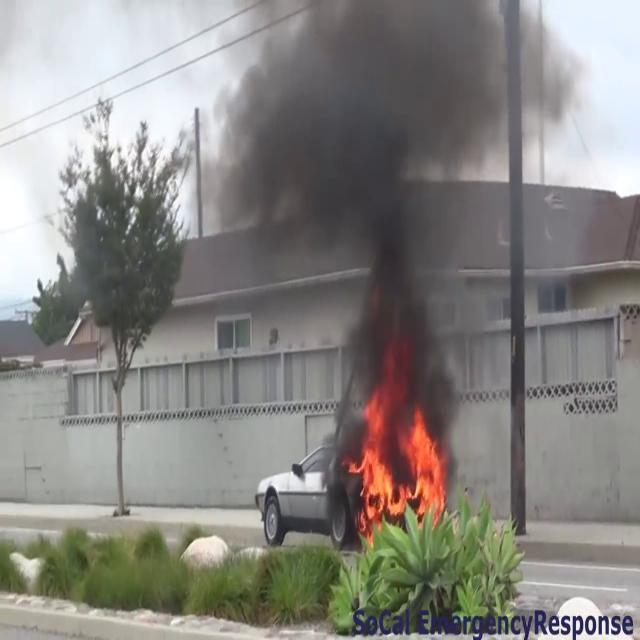Fire: (351, 386, 448, 536)
Smoke: (193, 0, 577, 412)
